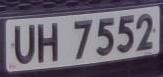2: (134, 10, 158, 54)
5: (94, 15, 115, 57), (116, 12, 136, 54)
7: (72, 17, 93, 61)
H: (36, 19, 62, 69)
U: (11, 20, 38, 70)
